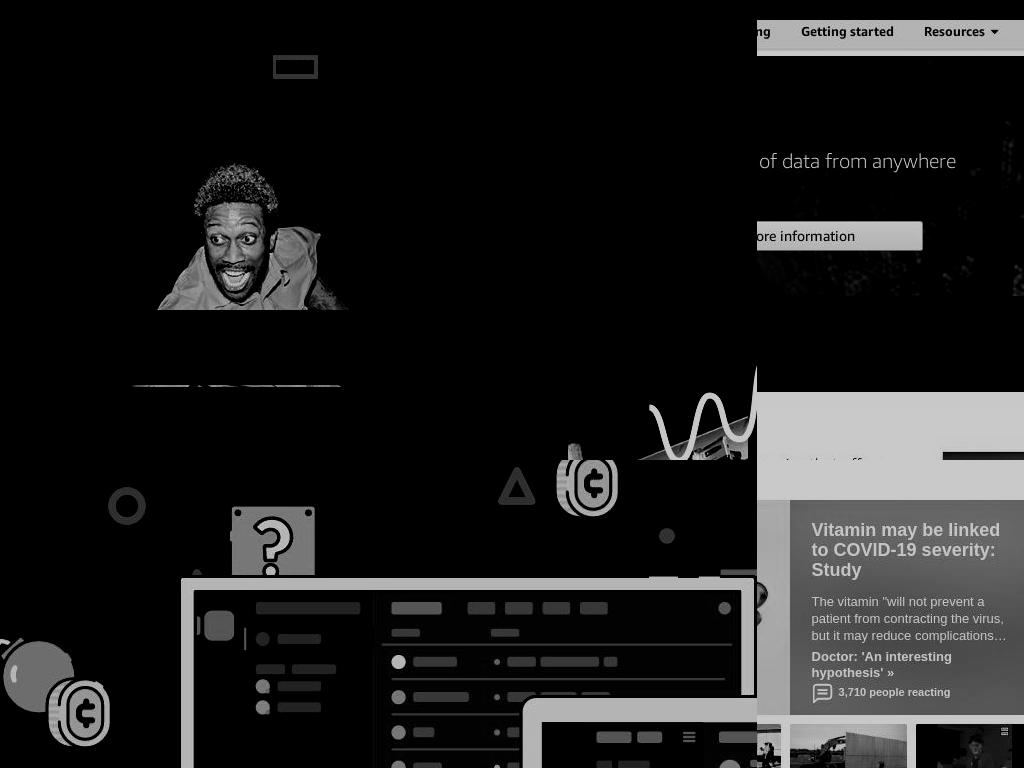button: (757, 296, 1024, 392), (790, 724, 907, 768), (757, 221, 923, 251), (916, 724, 1024, 768), (786, 11, 909, 49), (909, 11, 1013, 49), (846, 0, 987, 20), (662, 51, 733, 83), (466, 0, 566, 22), (455, 0, 551, 22), (757, 0, 846, 20), (757, 11, 786, 49)
field: (0, 51, 119, 83)
heading: (0, 387, 568, 460), (79, 310, 421, 385), (757, 86, 1024, 146), (811, 520, 1014, 580), (757, 146, 1024, 176), (757, 330, 906, 355)
image: (177, 575, 757, 768), (757, 460, 973, 662), (0, 717, 757, 755), (0, 507, 757, 545), (463, 695, 757, 768), (228, 503, 318, 593), (39, 672, 119, 753), (0, 638, 78, 721), (790, 724, 907, 768), (547, 460, 627, 523), (916, 724, 1024, 768), (717, 565, 757, 661), (498, 467, 536, 505), (178, 569, 216, 607), (648, 517, 686, 555), (108, 487, 146, 525), (568, 577, 606, 615), (811, 683, 833, 704)
link: (811, 593, 1014, 644), (405, 56, 487, 78), (507, 56, 561, 78), (338, 56, 385, 78), (276, 60, 314, 74)
text: (0, 1, 453, 19), (0, 1, 442, 19), (757, 222, 922, 250), (811, 649, 952, 680), (757, 355, 906, 377), (757, 311, 906, 330), (478, 0, 554, 22), (467, 0, 539, 22), (838, 686, 951, 699), (924, 22, 991, 39), (682, 51, 713, 83), (602, 56, 642, 78)
